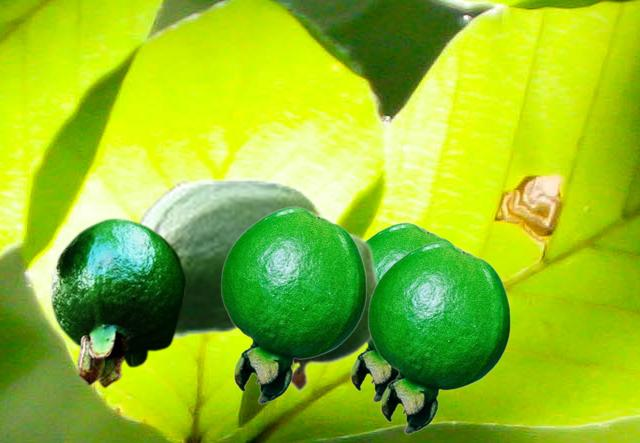guava: (134, 176, 323, 344), (220, 206, 366, 403), (367, 241, 510, 433), (50, 217, 186, 387), (350, 222, 454, 401), (290, 231, 381, 392)
